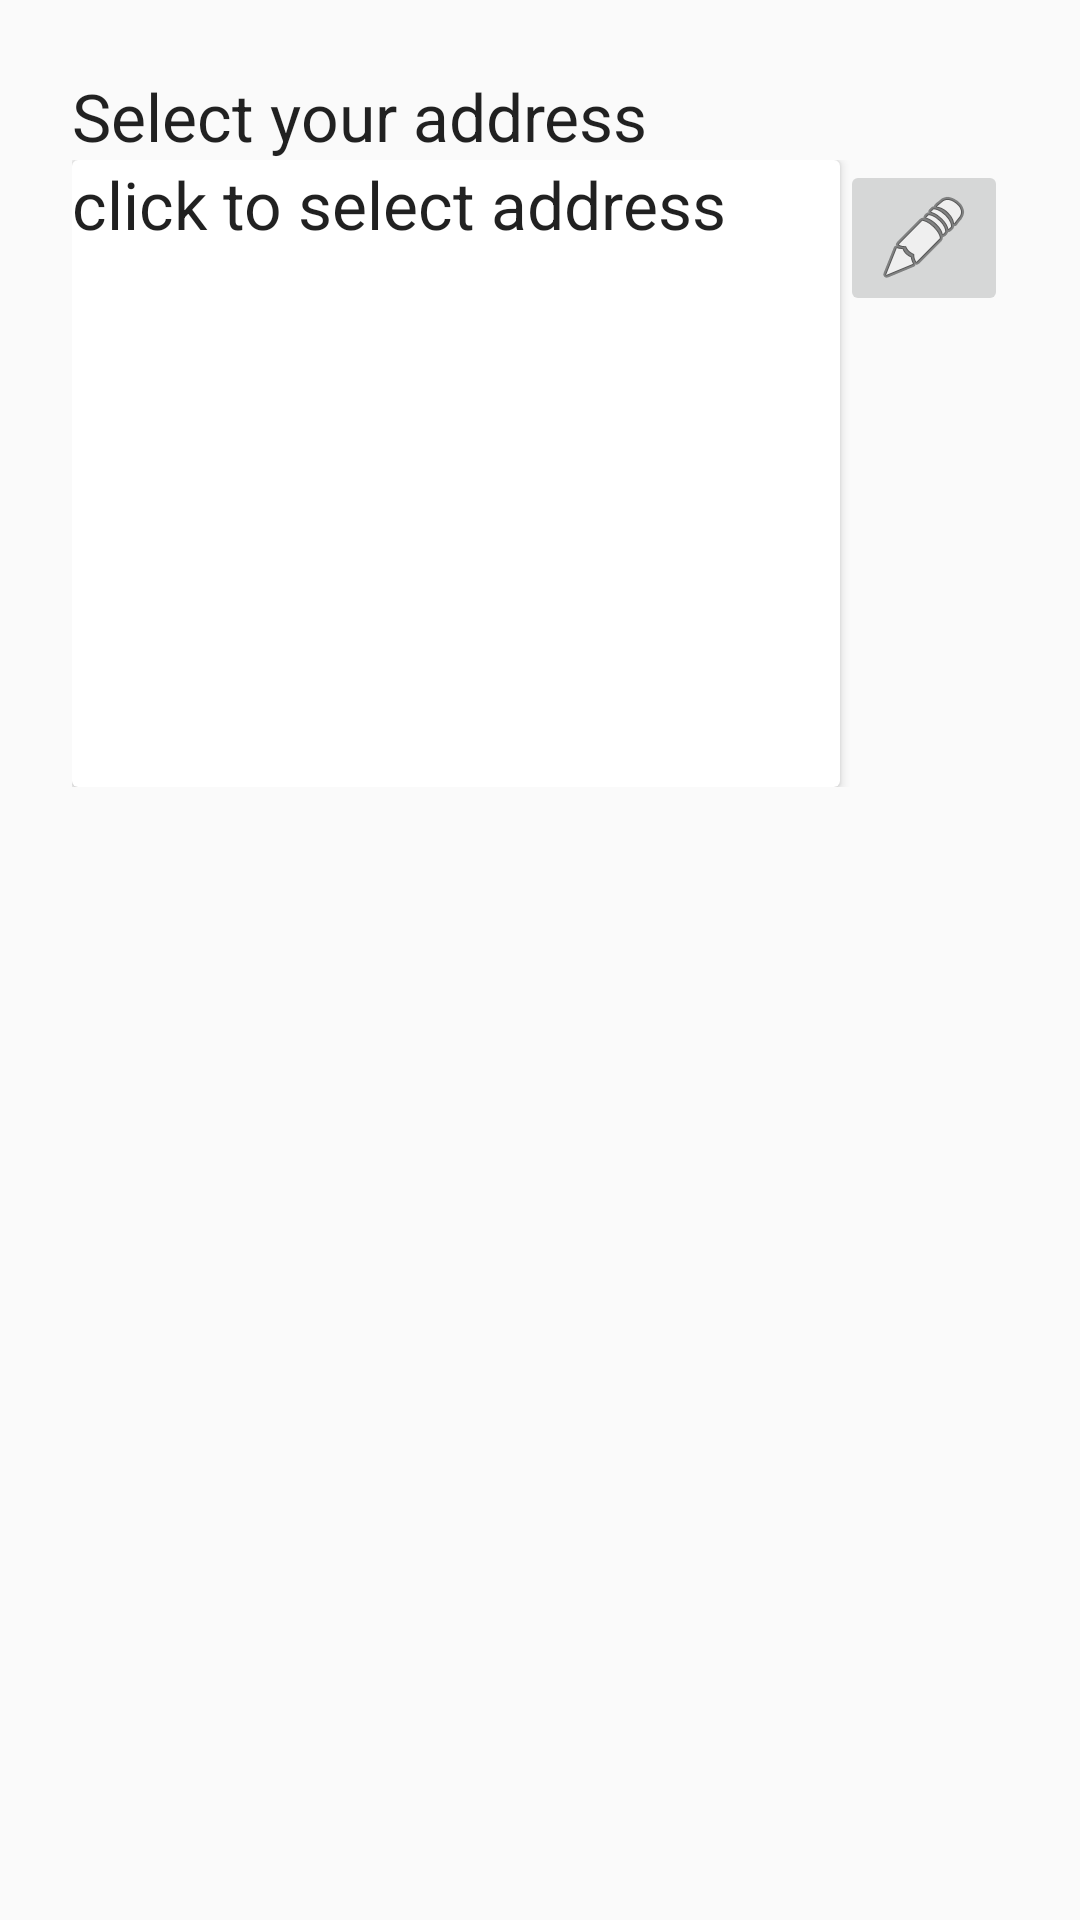

Point at icon controls on the screen. Image size 1080×1920, points as [x,y].
edit: [924,238]
